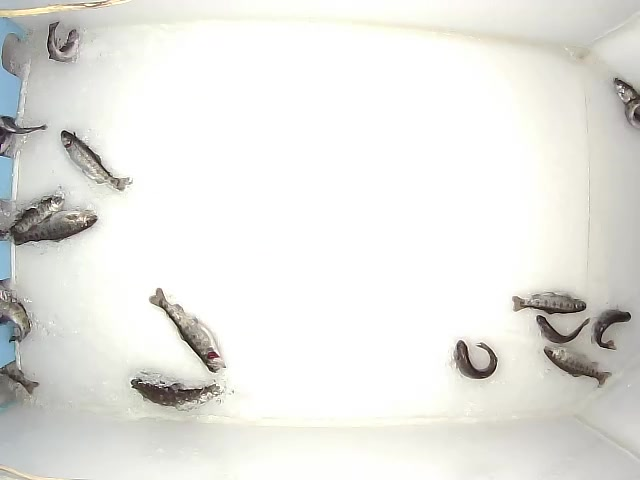fish: (146, 285, 229, 375), (60, 128, 135, 192), (127, 374, 228, 415), (10, 204, 99, 247), (540, 342, 614, 389), (3, 193, 68, 239), (511, 287, 588, 315), (452, 338, 499, 381), (533, 313, 595, 344), (45, 19, 83, 63)
